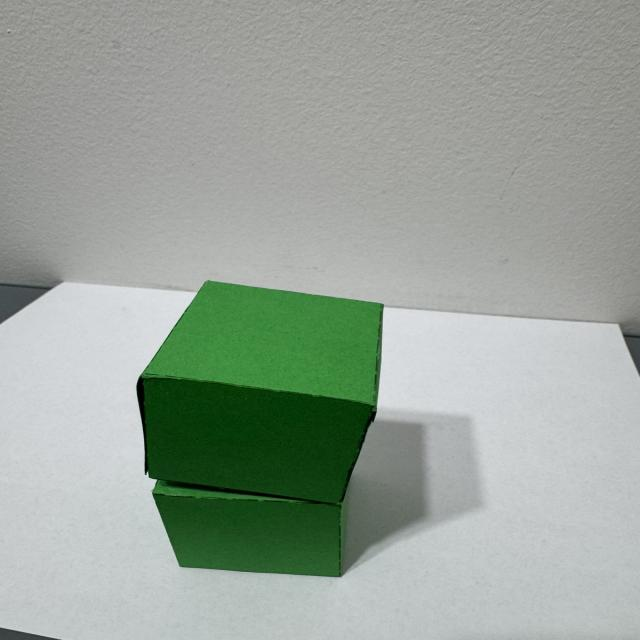green_cube: (113, 236, 432, 600)
